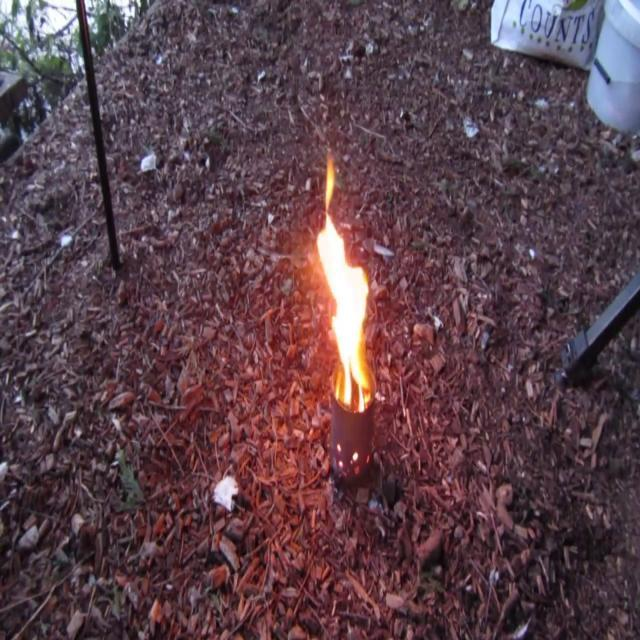Fire: (308, 190, 374, 403)
